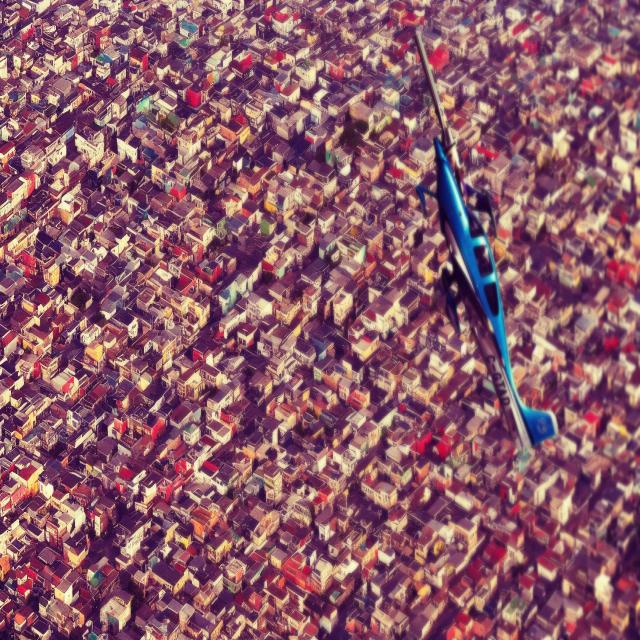airplane: (413, 25, 558, 454)
